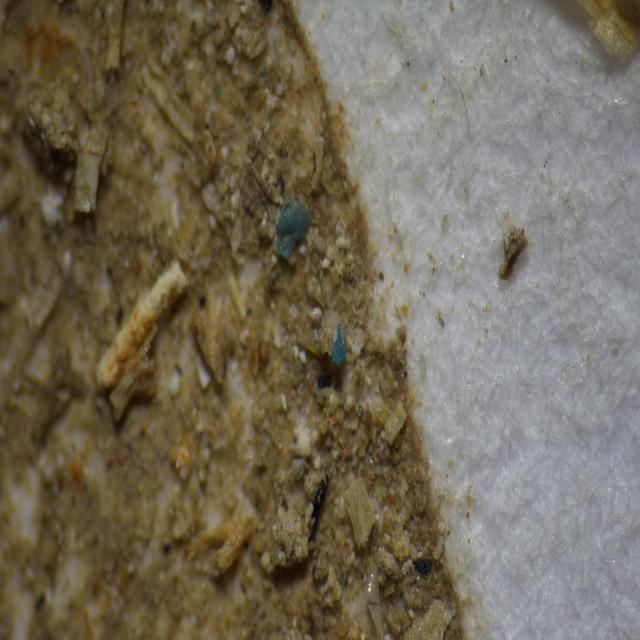microplastic: (254, 189, 326, 281), (327, 317, 349, 364)
